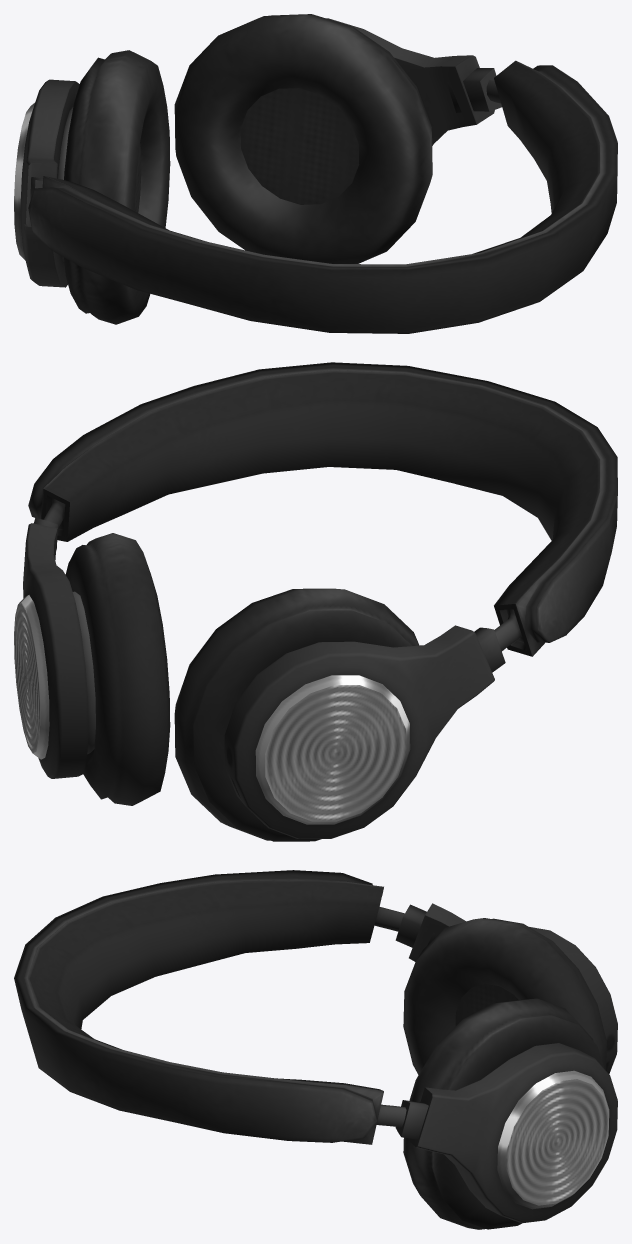
3 renders of one model, top to bottom at view 1: azimuth 30°, elevation 25°; view 2: azimuth 150°, elevation 25°; view 3: azimuth 270°, elevation 25°, orthographic. The views are drawn at different scales.
Visible parts, largest first — view 1: geometry_0; view 2: geometry_0; view 3: geometry_0.
Boxes of the visible parts, x1,y1,x2,y2 form: geometry_0: (14, 14, 617, 333); geometry_0: (14, 362, 617, 841); geometry_0: (14, 870, 617, 1229).
Size of the model in its own units: 1.44 by 0.6648 by 1.64.
Materials: 1 (1 with a texture image).
